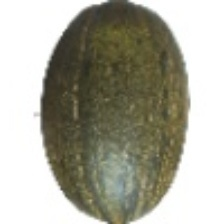honeydew: (33, 41, 194, 186)
